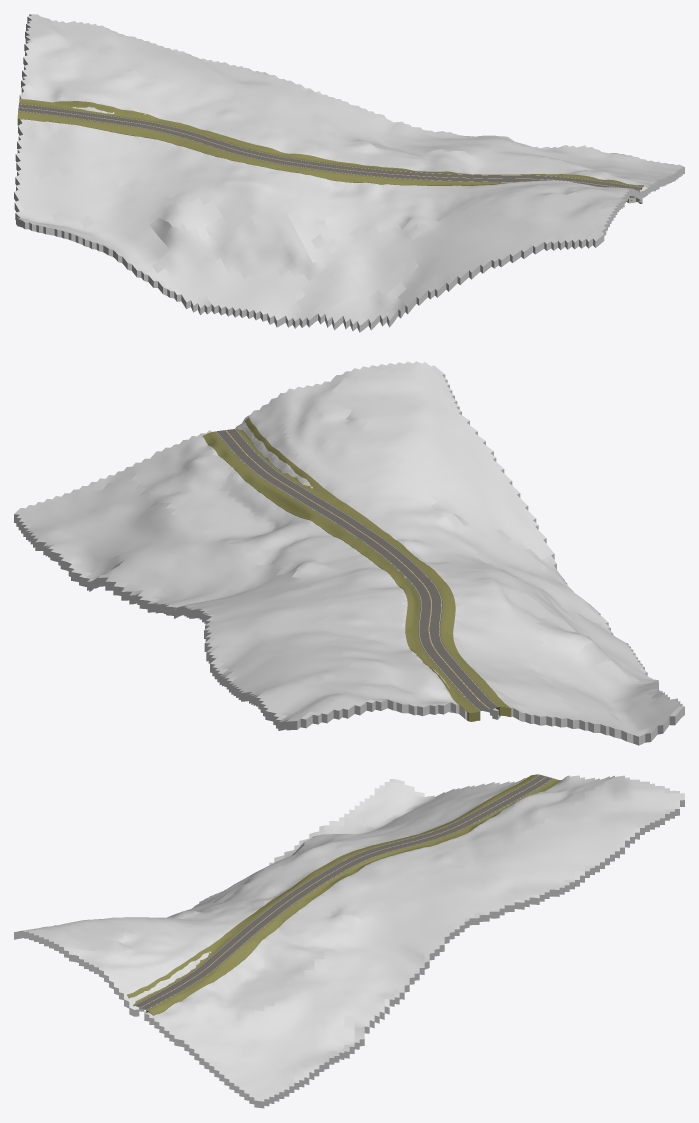
The model's file is conz_156.glb.
3 renders of one model, top to bottom at view 1: azimuth 30°, elevation 25°; view 2: azimuth 150°, elevation 25°; view 3: azimuth 270°, elevation 25°, orthographic. The views are drawn at different scales.
Visible parts, largest first — view 1: terrain156, road156, verge156L, verge156R, paint_yellow156; view 2: terrain156, road156, verge156R, verge156L, paint_white156; view 3: terrain156, road156, verge156R, verge156L.
Boxes of the visible parts, <box> form: terrain156: <box>14,14,684,332</box>; road156: <box>18,104,641,191</box>; verge156L: <box>17,111,637,201</box>; verge156R: <box>19,99,643,189</box>; paint_yellow156: <box>19,107,639,190</box>; terrain156: <box>14,361,684,745</box>; road156: <box>215,429,499,711</box>; verge156R: <box>203,431,480,721</box>; verge156L: <box>236,417,511,716</box>; paint_white156: <box>216,429,498,710</box>; terrain156: <box>14,775,684,1108</box>; road156: <box>134,774,553,1010</box>; verge156R: <box>146,778,561,1015</box>; verge156L: <box>127,774,538,1009</box>.
Bounding box in the file's own units: 268 × 56.24 × 268.
